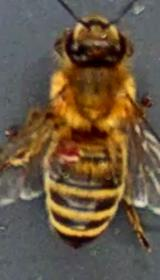varroa_mite: (46, 130, 90, 170)
